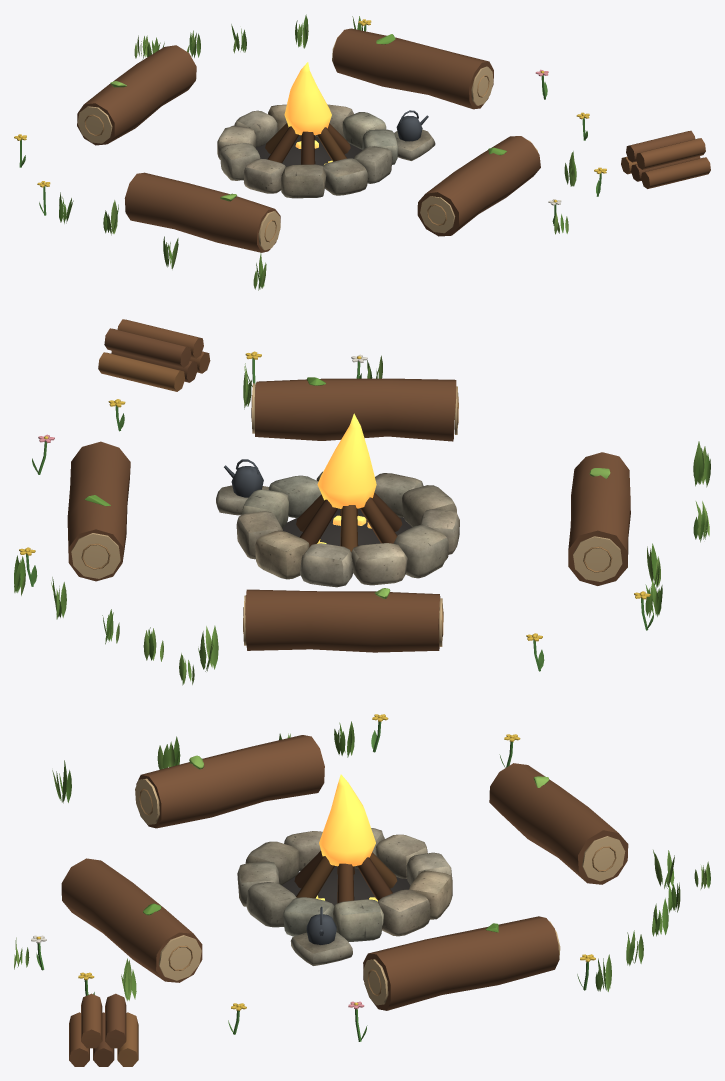
Rendered from campfire.gltf.
3 renders of one model, top to bottom at view 1: azimuth 30°, elevation 25°; view 2: azimuth 150°, elevation 25°; view 3: azimuth 270°, elevation 25°, orthographic. The views are drawn at different scales.
Visible parts, largest first — view 1: Camp, Stones, Flame; view 2: Camp, Stones, Flame; view 3: Camp, Stones, Flame.
Part boxes in pixels (box(x1,y1,x2,y2)): Camp: box(14, 14, 710, 290); Stones: box(217, 104, 435, 198); Flame: box(284, 62, 331, 135); Camp: box(14, 319, 710, 685); Stones: box(216, 471, 459, 587); Flame: box(317, 413, 376, 508); Camp: box(14, 714, 710, 1066); Stones: box(237, 828, 452, 965); Flame: box(319, 774, 375, 866).
Size of the model in its own units: 6.24 by 1.16 by 5.76.
22 materials, 1 textured.
